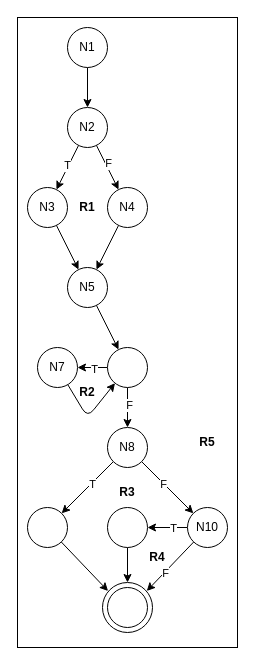
Image size: 255x665. Some labels were removed from this diagram. The centre of each missing label's shape, as x and y in pixels:
N11: the point at 127,527
N12: the point at 127,607
N6: the point at 127,367
N9: the point at 47,527
